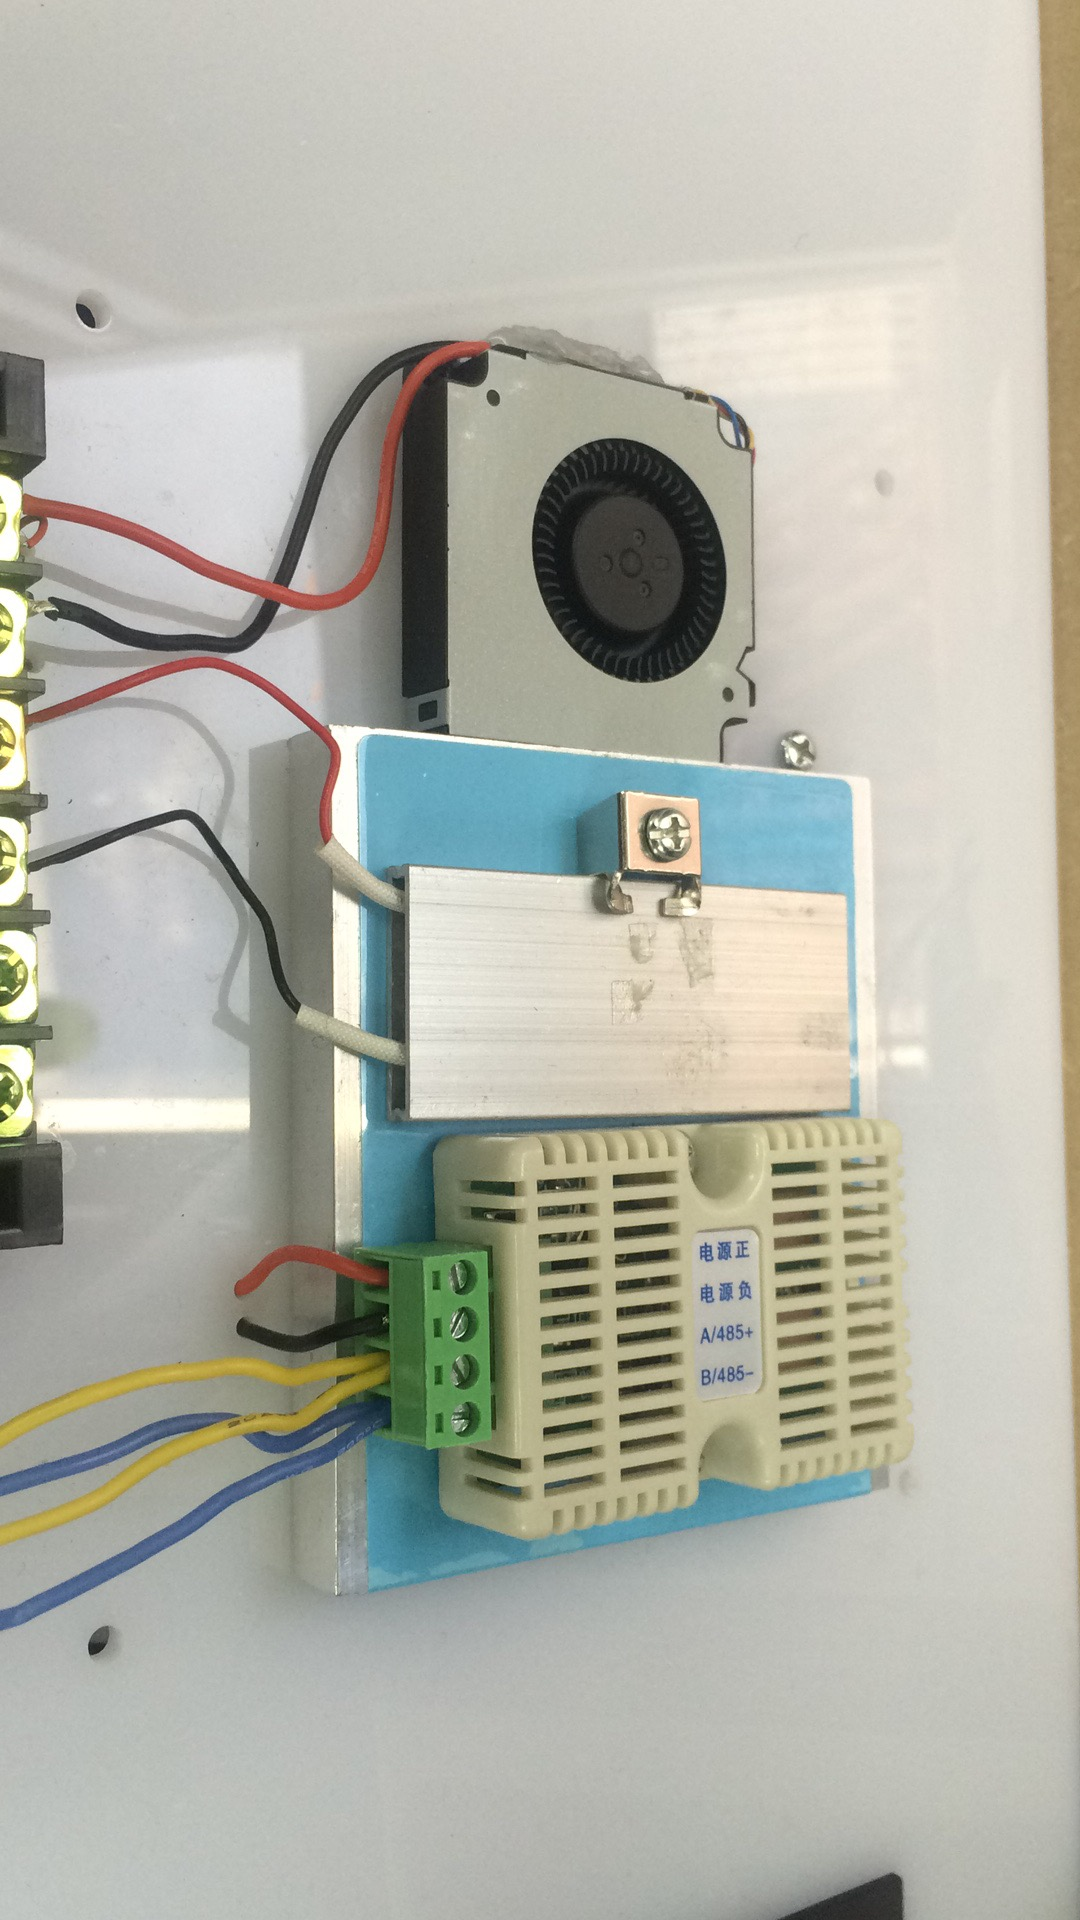fan: (397, 322, 783, 767)
heater: (378, 862, 861, 1118)
temperature: (448, 1120, 924, 1530)
